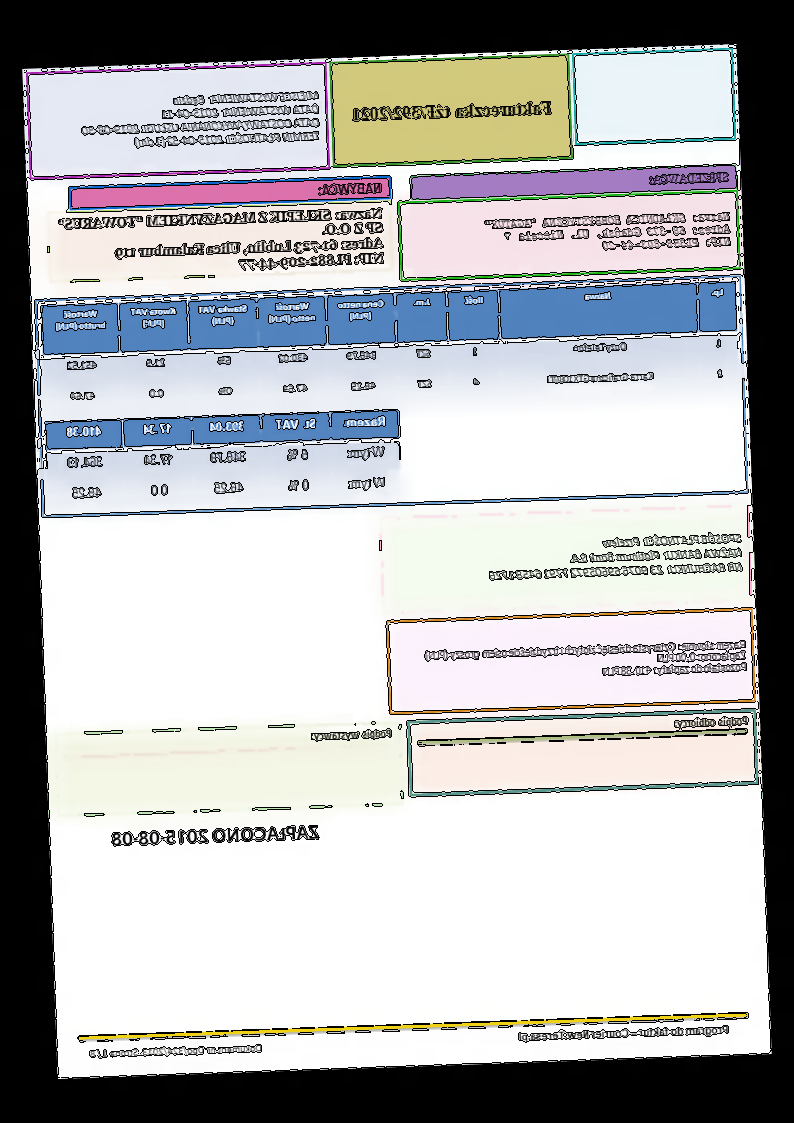Table: (40, 279, 741, 418), (44, 408, 403, 513)
TextBox: (56, 206, 387, 277), (79, 89, 322, 152), (423, 637, 748, 684), (486, 530, 745, 582), (484, 208, 733, 256), (351, 98, 553, 123), (111, 823, 320, 847), (517, 1022, 732, 1045), (88, 1040, 264, 1062), (646, 169, 731, 188), (310, 726, 394, 744), (673, 714, 750, 731), (317, 180, 383, 197)
